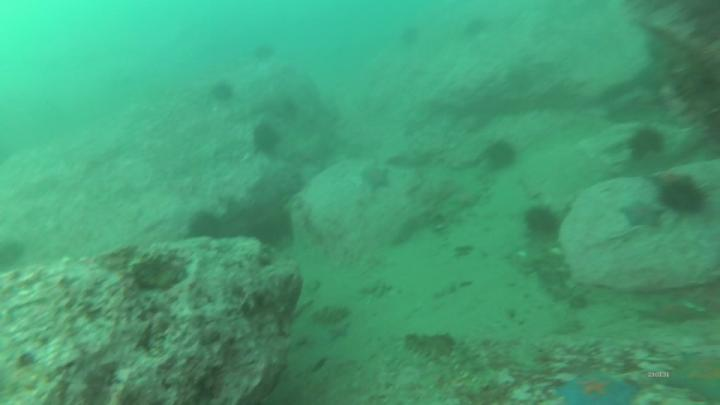echinus: (665, 188, 706, 213), (188, 213, 224, 239), (525, 207, 557, 230), (255, 126, 279, 151), (486, 145, 513, 167), (211, 84, 231, 101), (253, 45, 274, 61), (401, 28, 419, 45), (467, 21, 489, 34)
holothurian: (454, 345, 492, 388), (387, 343, 431, 370)
starfish: (669, 351, 720, 403), (563, 371, 633, 405), (651, 297, 699, 326), (628, 127, 664, 159), (623, 201, 662, 226), (366, 167, 392, 192), (650, 173, 693, 188), (328, 325, 349, 339)
